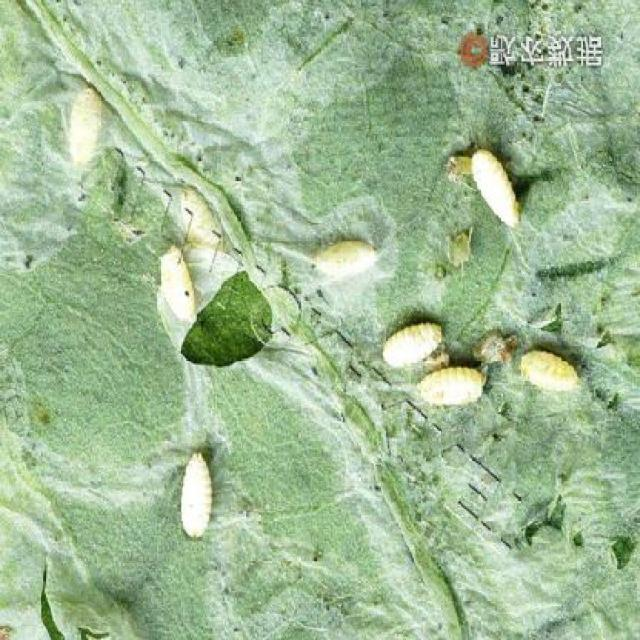whorl-maggot: (462, 141, 529, 237), (509, 337, 589, 401), (60, 66, 105, 177), (372, 315, 448, 377), (409, 363, 500, 414), (178, 443, 217, 546), (314, 229, 380, 285), (160, 244, 194, 321)
